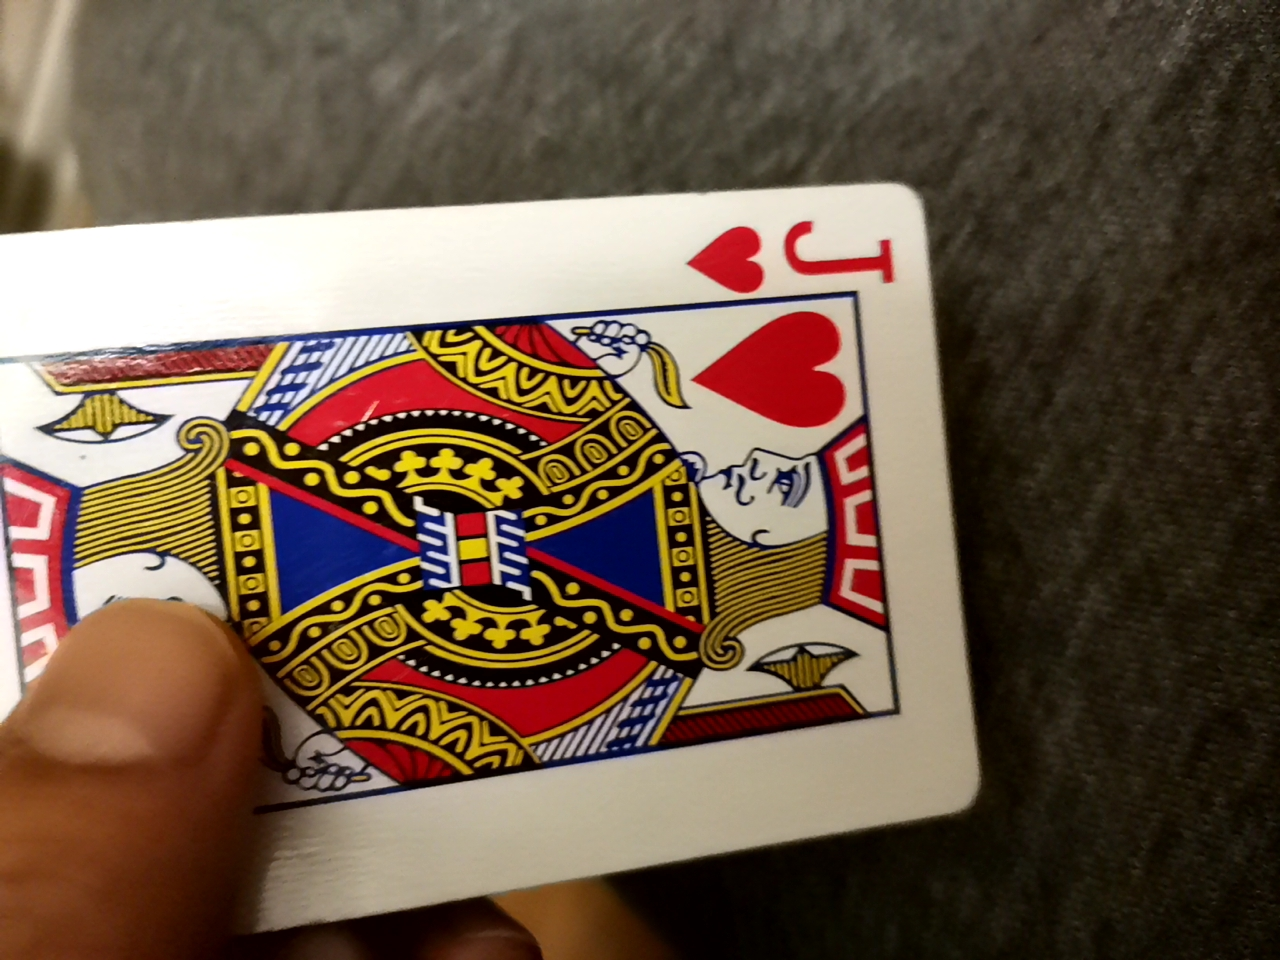hx j: (0, 179, 988, 929)
